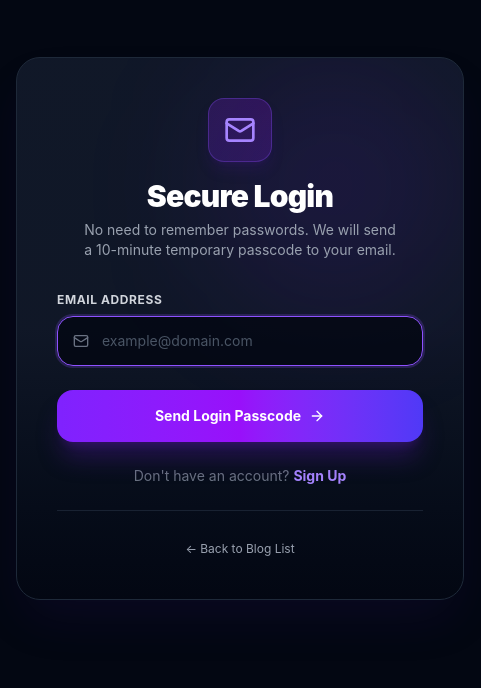
Test case: Login Page - Passwordless OTP Flow › should transition to 6-digit code entry step upon submitting email
Step 1. Type "developer@onurd.com" into the field with placeholder "example@domain.com" → (240,340), box top-left (57, 316), bottom-right (423, 366)
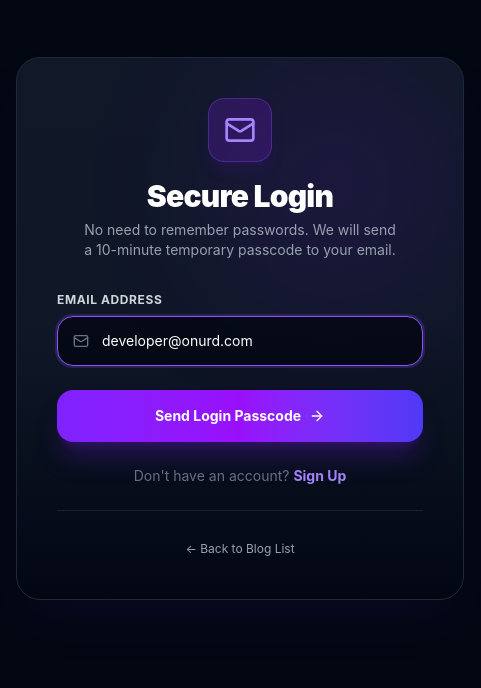
Step 2. Click the button "Send Login Passcode" → (240,416), box top-left (57, 390), bottom-right (423, 442)
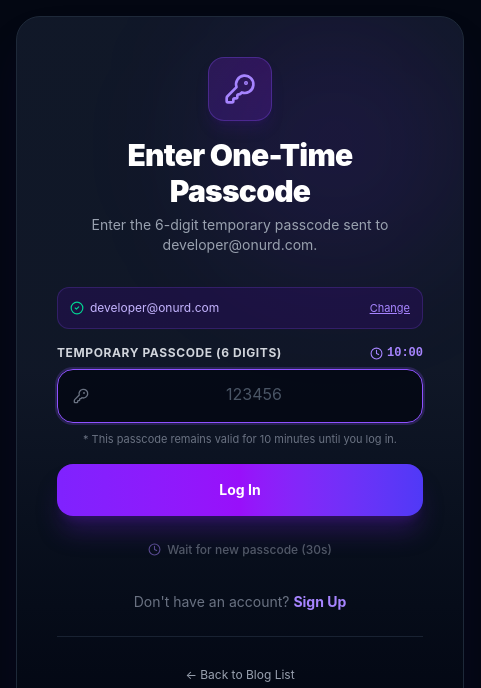
Result: the field with placeholder "123456" is shown at top-left (57, 369), bottom-right (423, 423)
Result: the button "Log In" is shown at top-left (57, 464), bottom-right (423, 516)
Result: the text "10:00" is shown at top-left (387, 345), bottom-right (423, 361)
